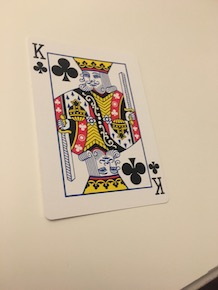KingOfClubs: (21, 29, 173, 225)
